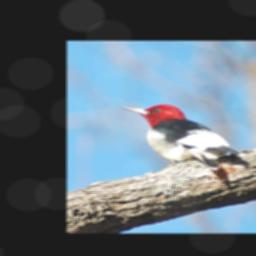Woodpecker: (118, 103, 241, 172)
